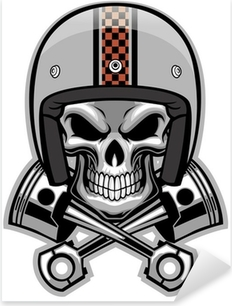with_helmet: (17, 3, 202, 183)
